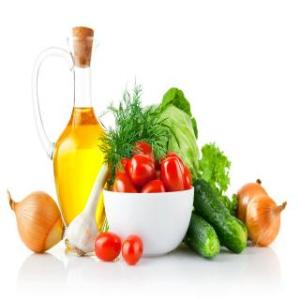cabbage: (142, 85, 204, 182)
cucumber: (191, 174, 247, 256), (180, 209, 220, 262)
garlic: (63, 168, 111, 262)
onion: (5, 190, 67, 258), (248, 194, 286, 251), (238, 178, 272, 216)
tomato: (128, 152, 156, 186), (94, 234, 120, 260), (166, 157, 182, 190), (124, 236, 142, 264)
